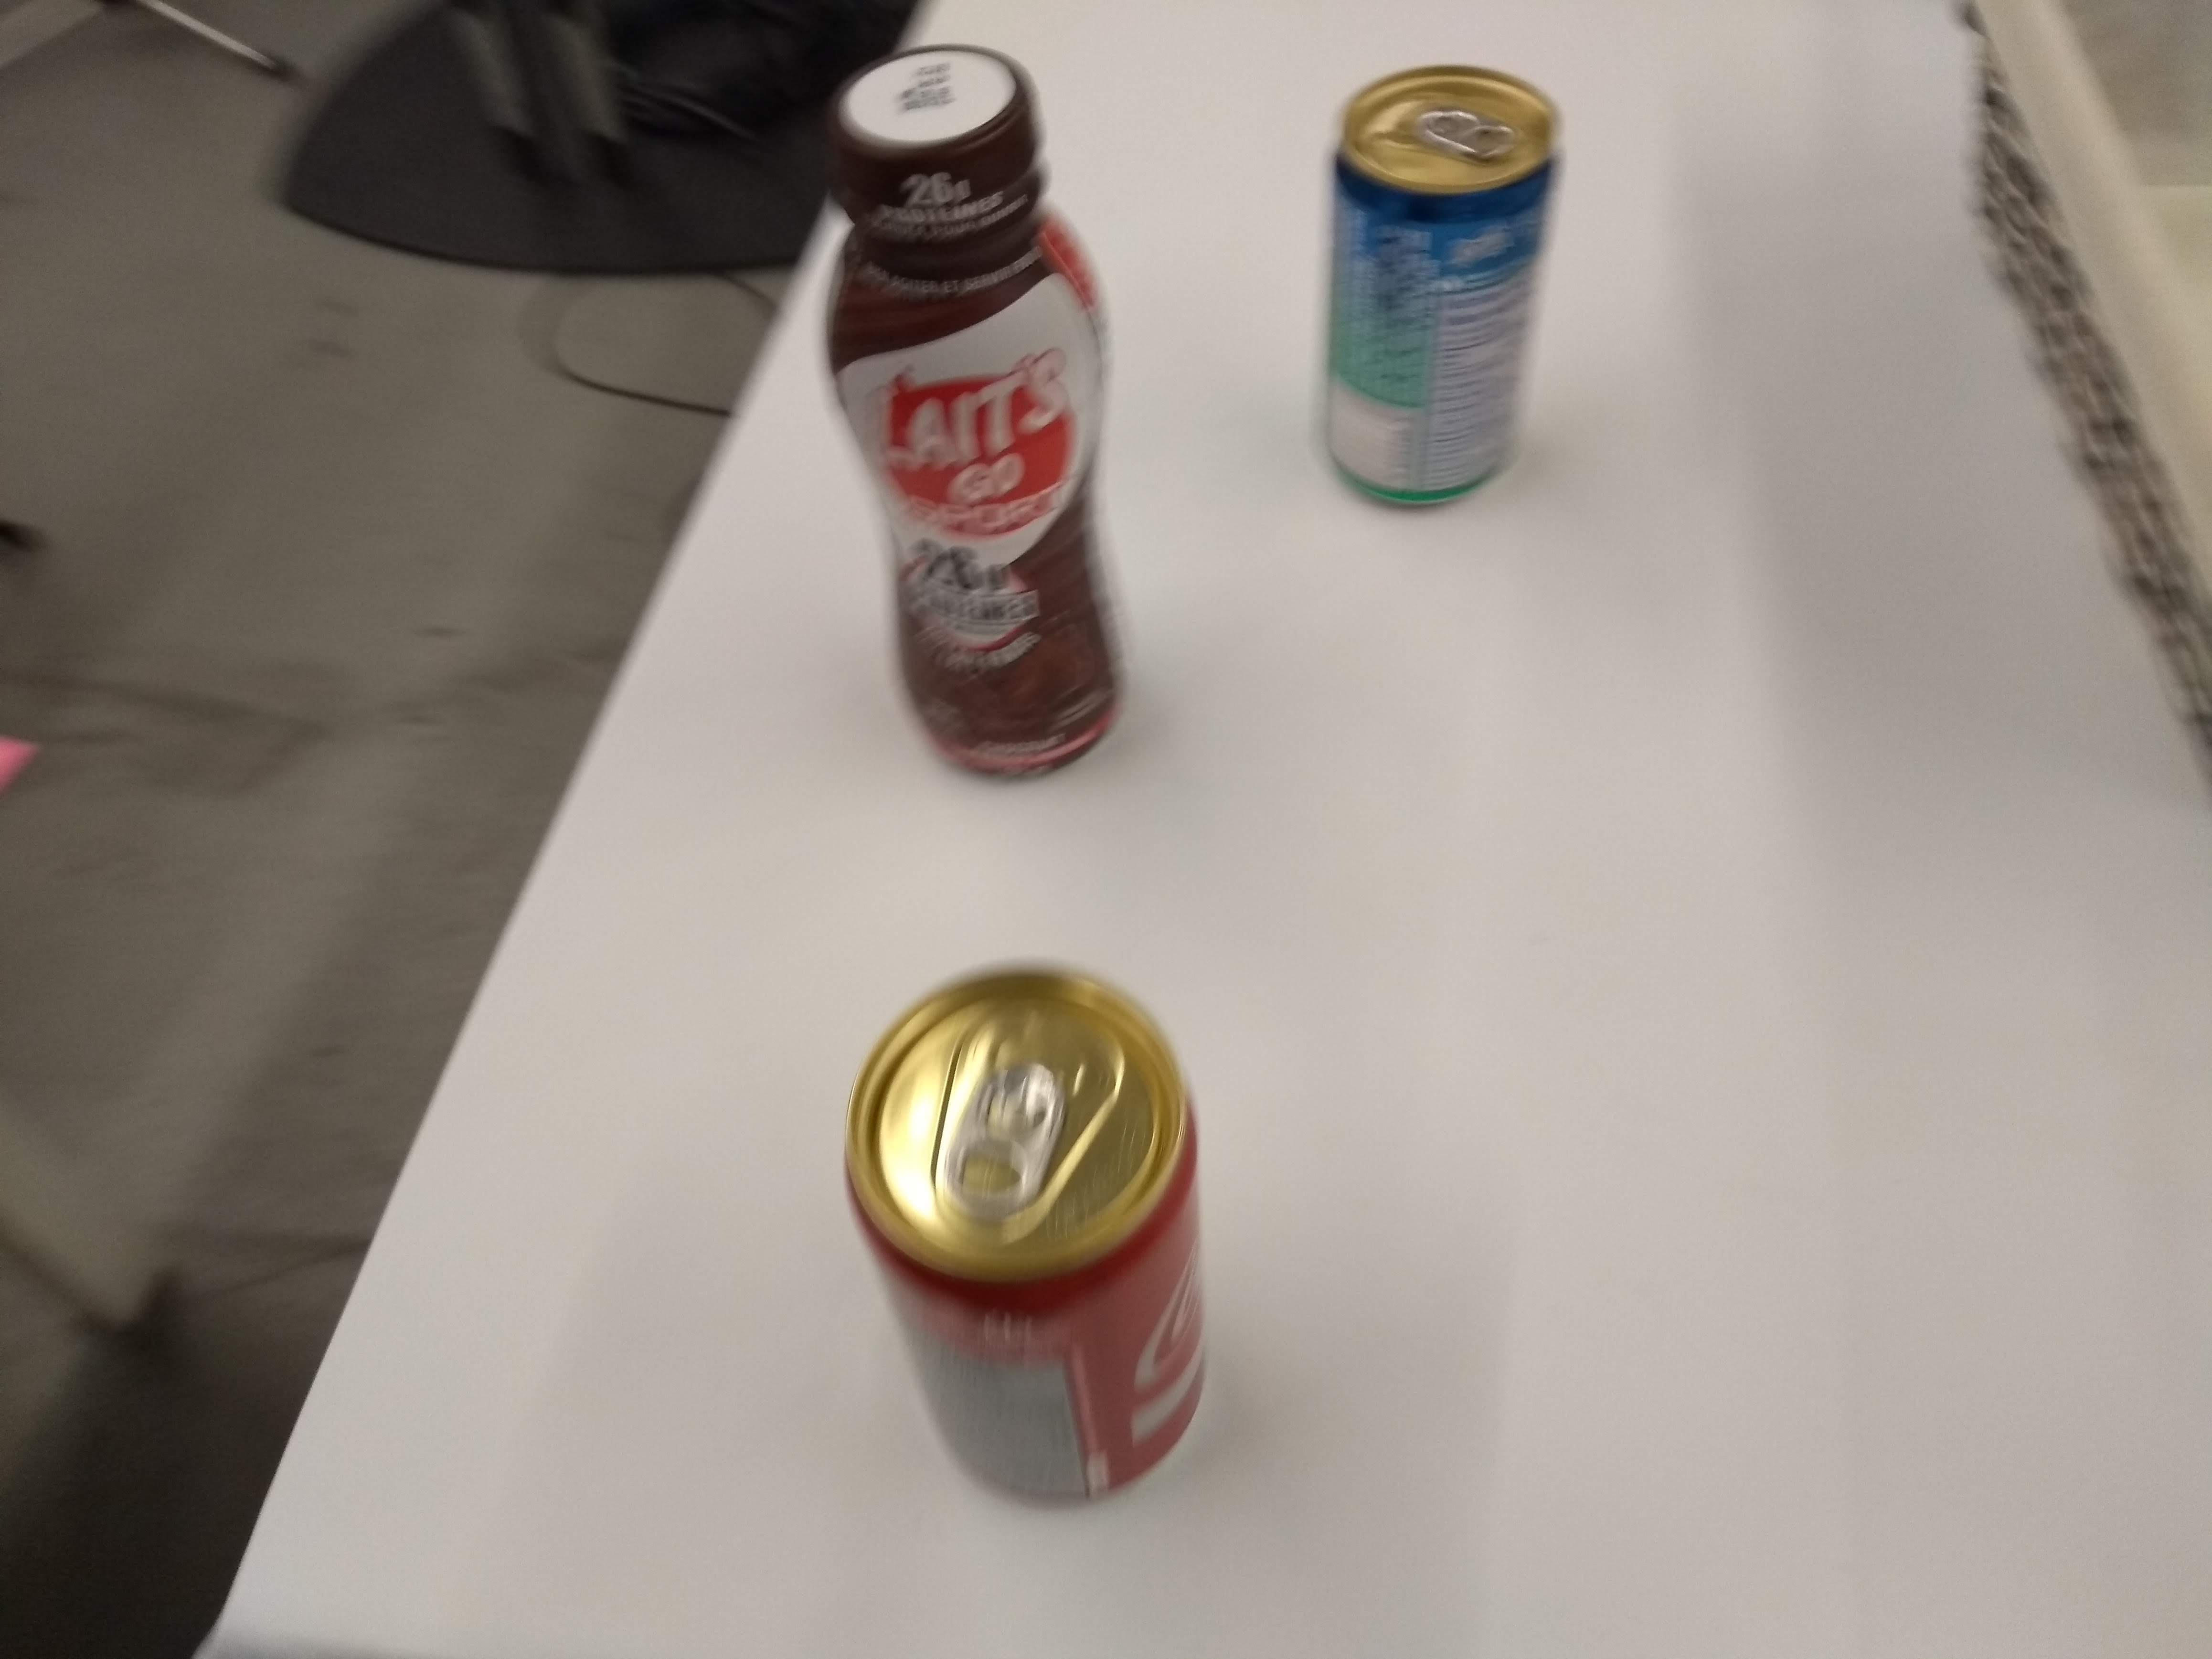chocolate_drink: (798, 28, 1143, 795)
coke: (829, 960, 1216, 1525)
